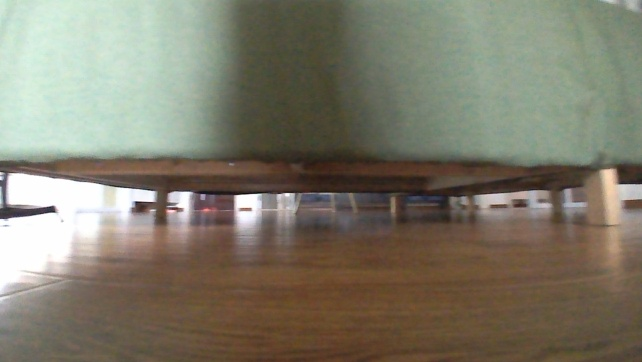sofa1: (0, 0, 641, 229)
